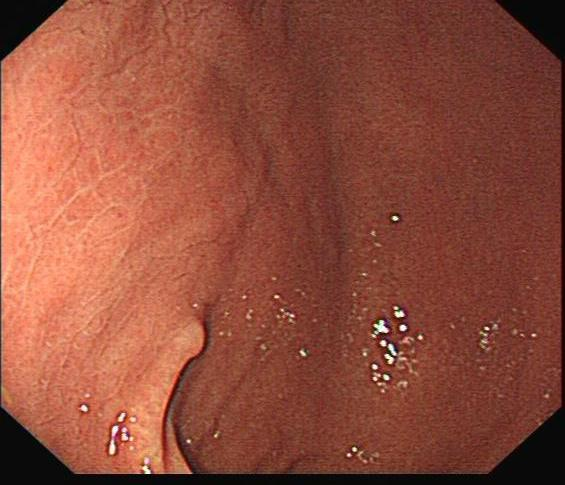Polyp: (116, 297, 226, 474)
